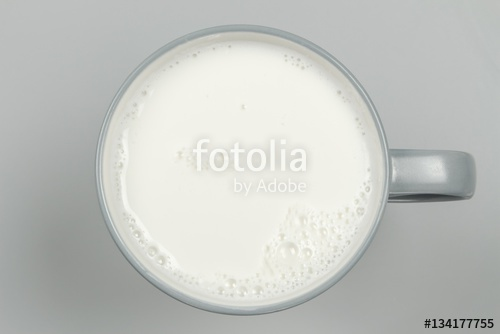glass of milk: (95, 27, 497, 334)
